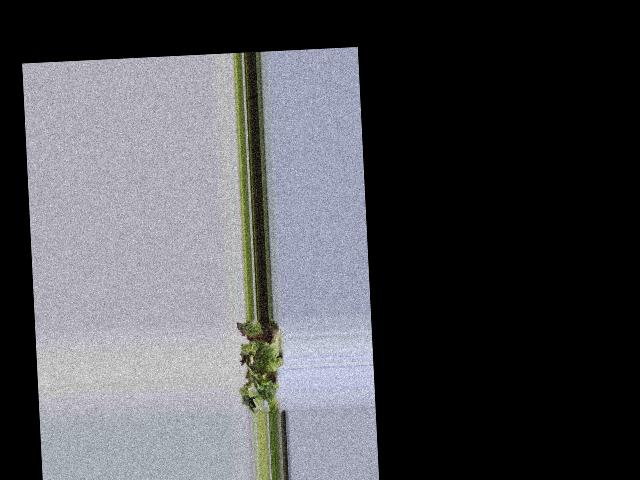lettuce: (240, 321, 279, 409)
